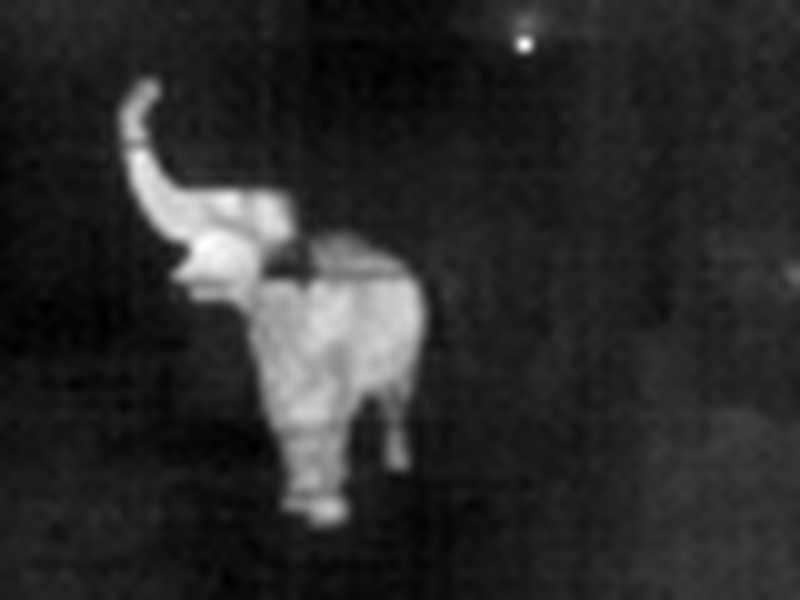elephant: (121, 80, 435, 524)
